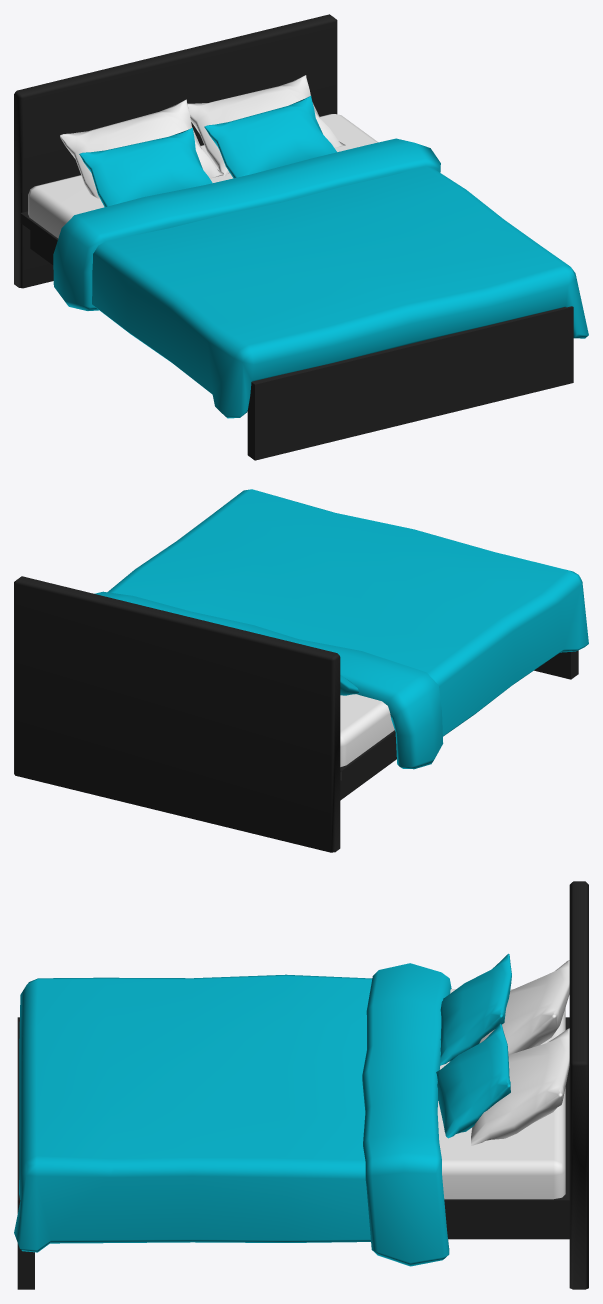
The model's file is bed_016.fbx.
3 views of the same model, one above another, from view 1: azimuth 30°, elevation 25°; view 2: azimuth 150°, elevation 25°; view 3: azimuth 270°, elevation 25° (orthographic). The views are drawn at different scales.
Visible parts, largest first — view 1: bed_016; view 2: bed_016; view 3: bed_016.
Part boxes in pixels (left/top/right/bottom): bed_016: left=14, top=14, right=588, bottom=460; bed_016: left=14, top=489, right=588, bottom=852; bed_016: left=14, top=881, right=588, bottom=1289.
Size of the model in its own units: 219 by 254 by 111.
